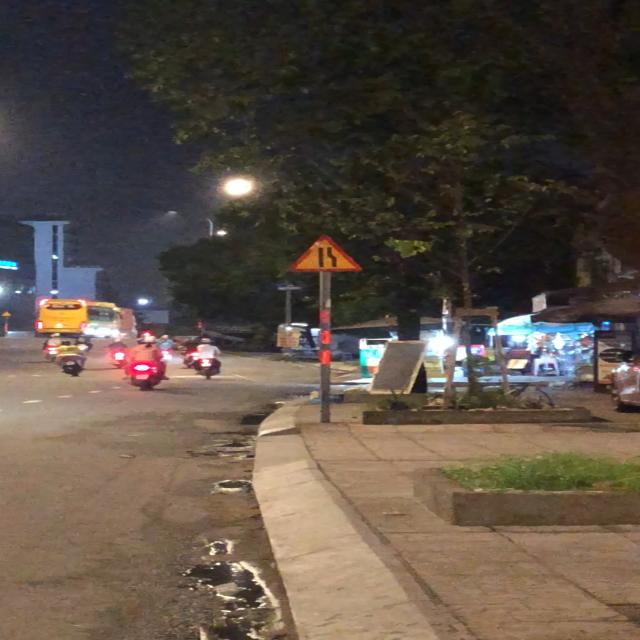Bien bao duong bi thu hep: (282, 232, 375, 274)
